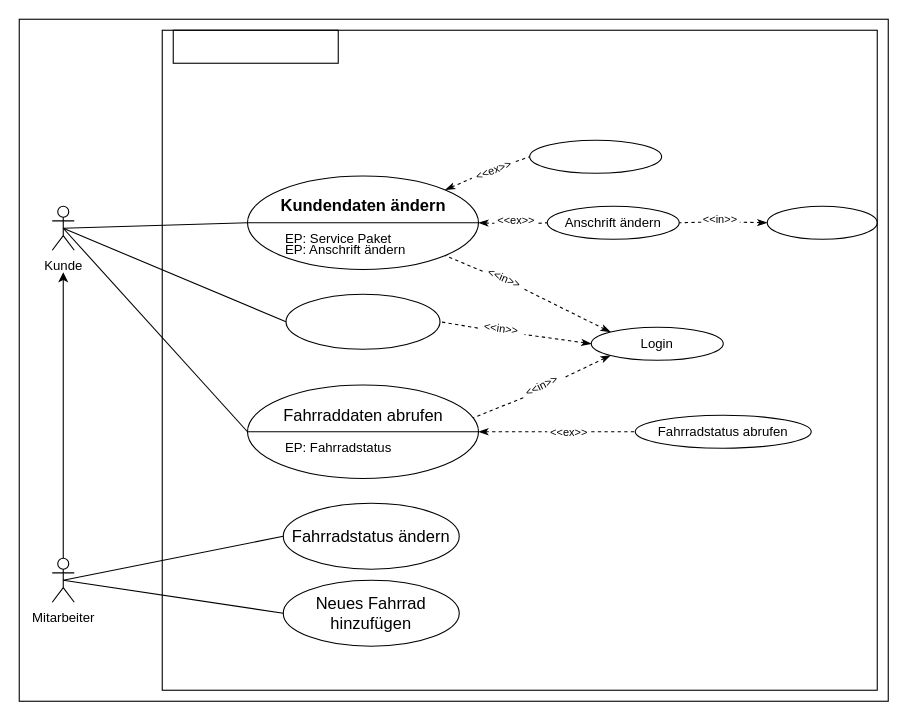
Image size: 908x721. Some labels were removed from this diagram. The centre of each missing label's shape, as x and y in pixels:
Anschrift angeben: the point at 821,222
BikeShop: the point at 255,46
Kontodaten abrufen: the point at 362,321
Service Paket: the point at 595,156
